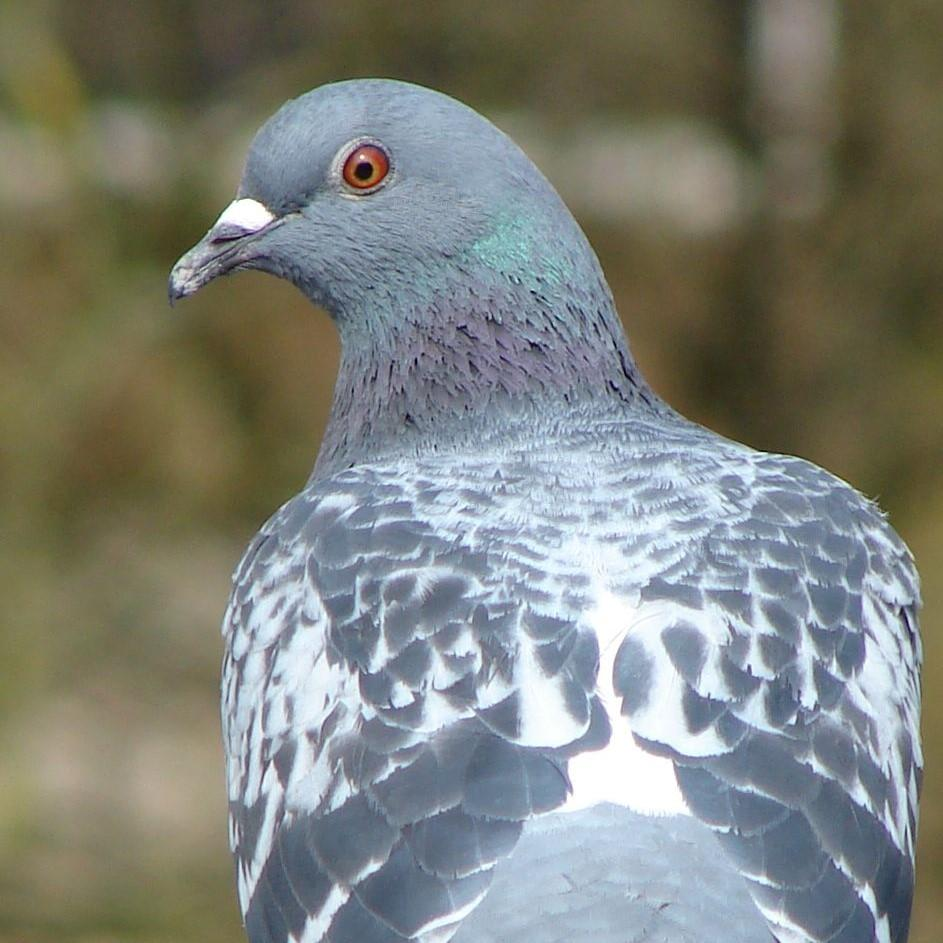Flying Rat: (140, 74, 906, 938)
